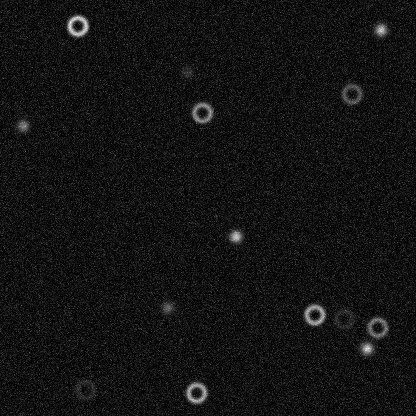Ring: (302, 302, 326, 326), (339, 81, 363, 105), (190, 100, 214, 124), (65, 13, 89, 37), (184, 380, 208, 404), (73, 377, 97, 401), (332, 306, 356, 330), (365, 315, 389, 339)
Spot: (15, 117, 31, 133), (372, 21, 388, 37), (179, 63, 195, 79), (227, 228, 243, 244), (358, 340, 374, 356), (159, 299, 175, 315)
